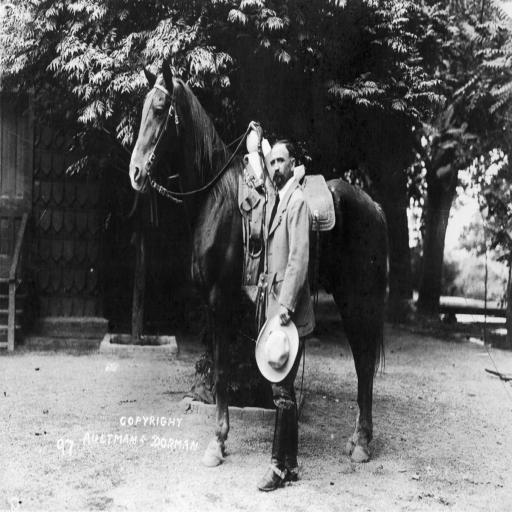Horse: (129, 57, 390, 467)
